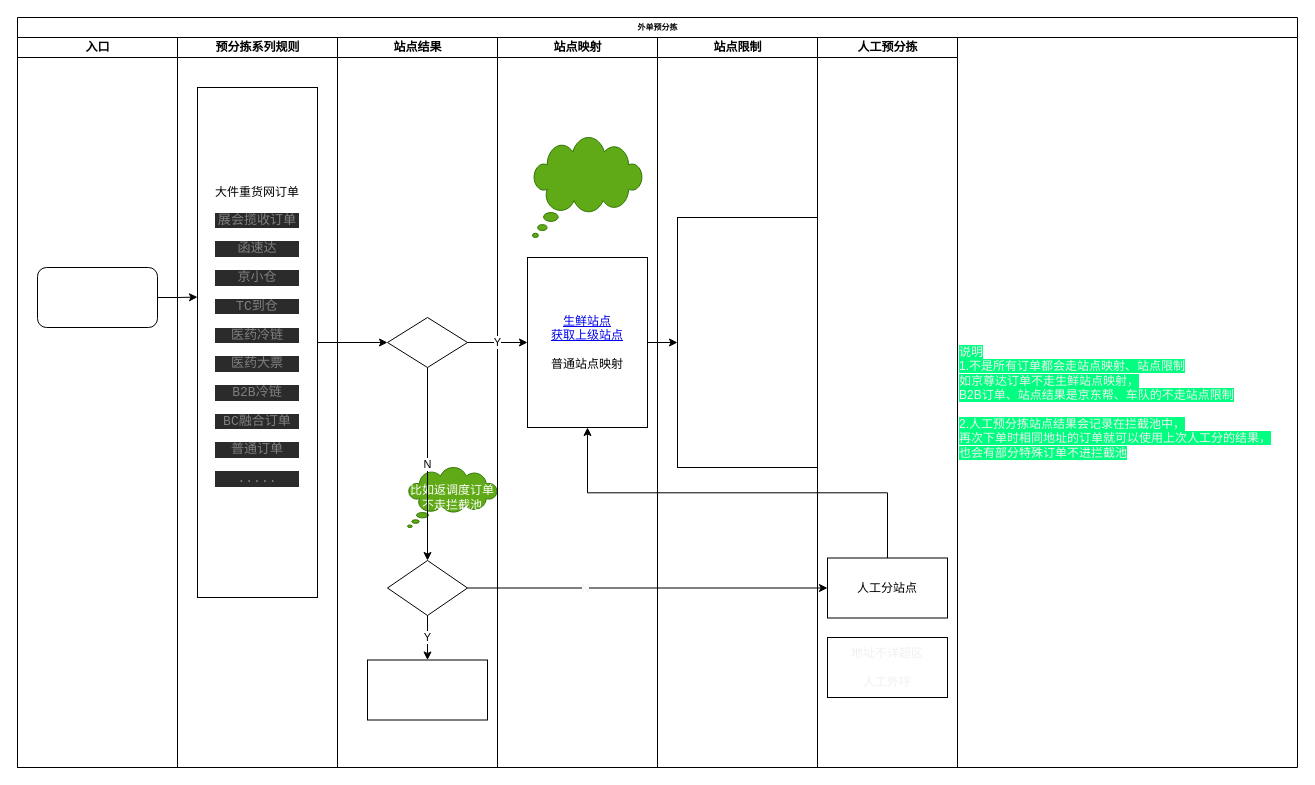
This 1315x785 diagram has some shape labels left out. The centre of each missing label's shape, as x and y in pixels:
"医药冷链派送订单 要求自营站点 货到付款订单不能给纯三方、合作共配站（派送） B网营业厅的派送订单 要求自营站点 指定签收要求自营站点 ...." goes at pixel 747 342.
"取拦截池中 人工给的站点" goes at pixel 427 689.
"外单下单" goes at pixel 97 297.
"映射的目的 1.减少超区 2.站点关闭" goes at pixel 587 187.
"是否匹配到 站点" goes at pixel 427 342.
"能否走拦截池" goes at pixel 427 588.
